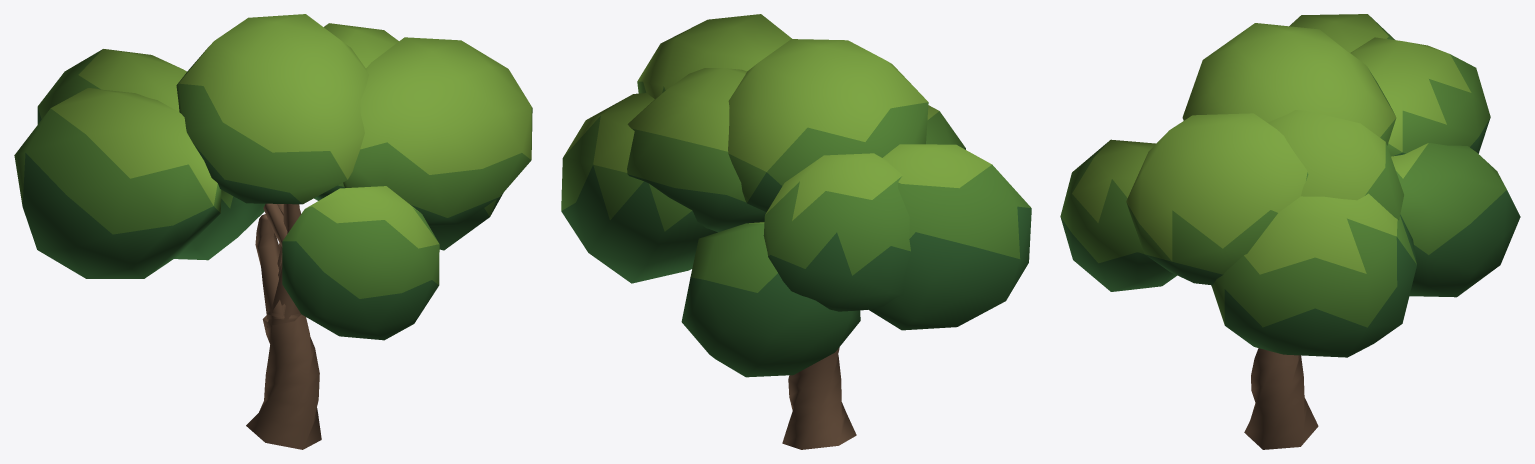
File: OakC_LOD.glb
The picture shows the model from 3 angles, left to right: view 1: azimuth 30°, elevation 25°; view 2: azimuth 150°, elevation 25°; view 3: azimuth 270°, elevation 25°; orthographic projection. The views are drawn at different scales.
Parts seen in each view (by area): view 1: OakC_LOD.leafLight, OakC_LOD.leafMid, OakC_LOD.leafDark, OakC_LOD.bark; view 2: OakC_LOD.leafDark, OakC_LOD.leafLight, OakC_LOD.leafMid, OakC_LOD.bark; view 3: OakC_LOD.leafLight, OakC_LOD.leafMid, OakC_LOD.leafDark, OakC_LOD.bark.
Part boxes in pixels (x1,y1,x2,y2): OakC_LOD.leafLight: (51,14,532,248); OakC_LOD.leafMid: (14,49,532,298); OakC_LOD.leafDark: (22,107,503,340); OakC_LOD.bark: (246,203,321,449); OakC_LOD.leafDark: (561,148,1031,377); OakC_LOD.leafLight: (563,14,991,223); OakC_LOD.leafMid: (561,81,1030,292); OakC_LOD.bark: (782,347,856,449); OakC_LOD.leafLight: (1072,14,1471,274); OakC_LOD.leafMid: (1060,17,1506,327); OakC_LOD.leafDark: (1060,118,1520,357); OakC_LOD.bark: (1244,348,1318,449).
Size of the model in its own units: 23.5 by 19.8 by 20.52.
